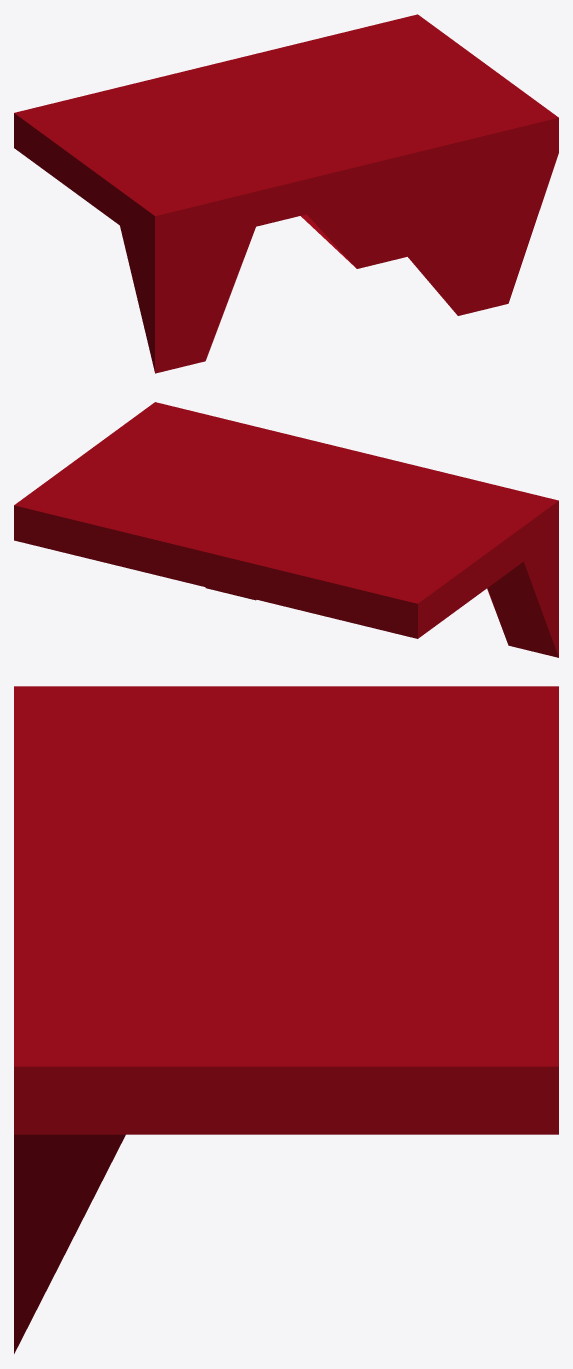
File: Blood.fbx
3 renders of one model, top to bottom at view 1: azimuth 30°, elevation 25°; view 2: azimuth 150°, elevation 25°; view 3: azimuth 270°, elevation 25°, orthographic. The views are drawn at different scales.
Visible parts, largest first — view 1: Cube.009; view 2: Cube.009; view 3: Cube.009.
Part boxes in pixels (x1=…): Cube.009: x1=14, y1=14, x2=558, y2=373; Cube.009: x1=14, y1=402, x2=558, y2=657; Cube.009: x1=14, y1=686, x2=558, y2=1353.
Bounding box in the file's own units: 166 × 68.44 × 101.
